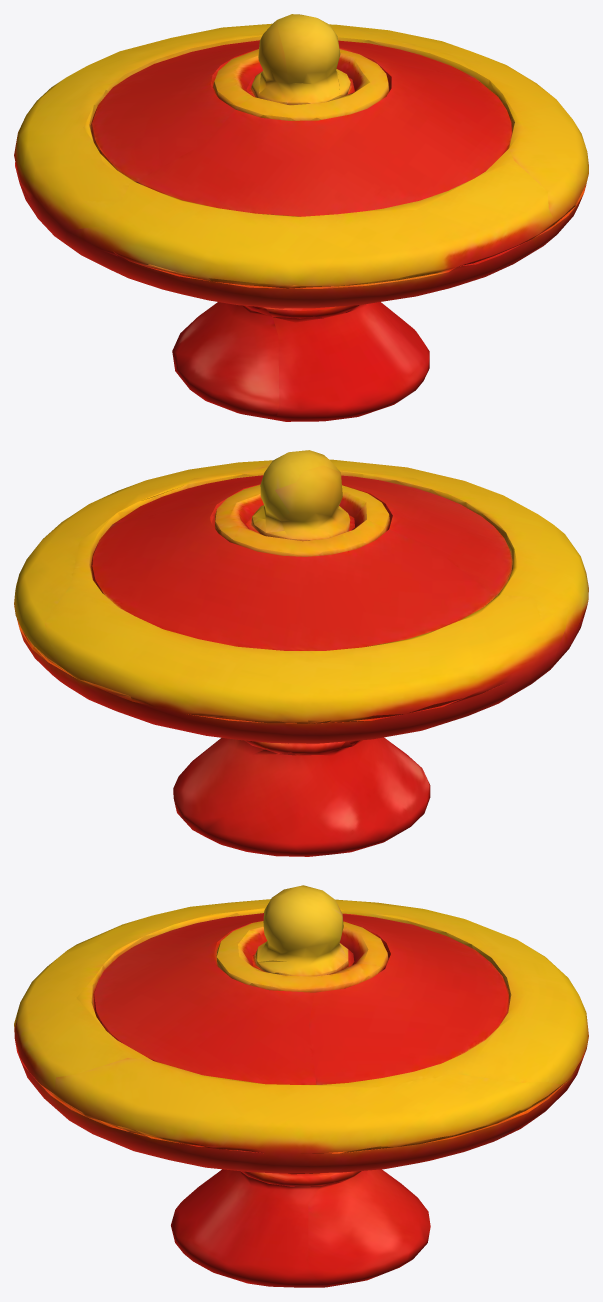
The model's file is m2SpinningTop.glb.
The picture shows the model from 3 angles, top to bottom: view 1: azimuth 30°, elevation 25°; view 2: azimuth 150°, elevation 25°; view 3: azimuth 270°, elevation 25°; orthographic projection.
Parts seen in each view (by area): view 1: model; view 2: model; view 3: model.
Part boxes in pixels (<box>): model: <box>14,14,588,421</box>; model: <box>14,450,588,856</box>; model: <box>14,885,588,1287</box>.
Size of the model in its own units: 1.85 by 1.28 by 1.9.
Materials: 1 (1 with a texture image).
